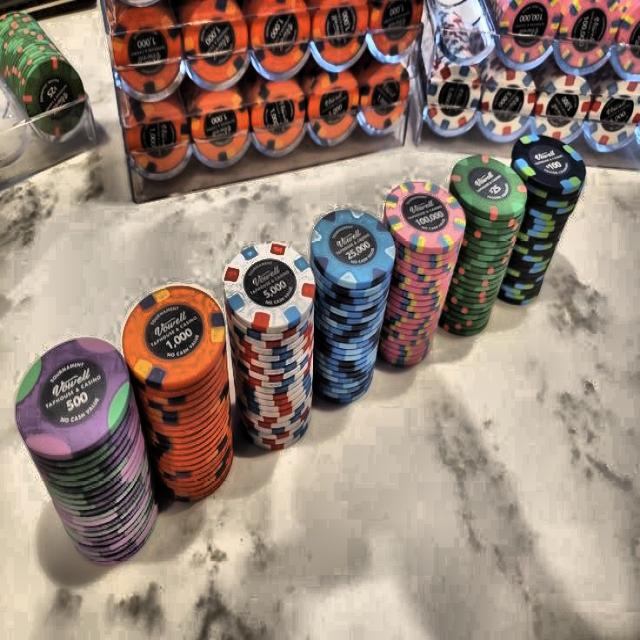Chip: (11, 332, 162, 574), (116, 277, 238, 506), (220, 240, 322, 460), (492, 122, 589, 320), (436, 147, 530, 346), (308, 207, 397, 410), (382, 175, 468, 382)
